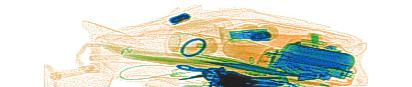USBFlashDisk: (228, 27, 269, 40)
battery: (283, 43, 354, 73)
pressure: (167, 31, 221, 57)
